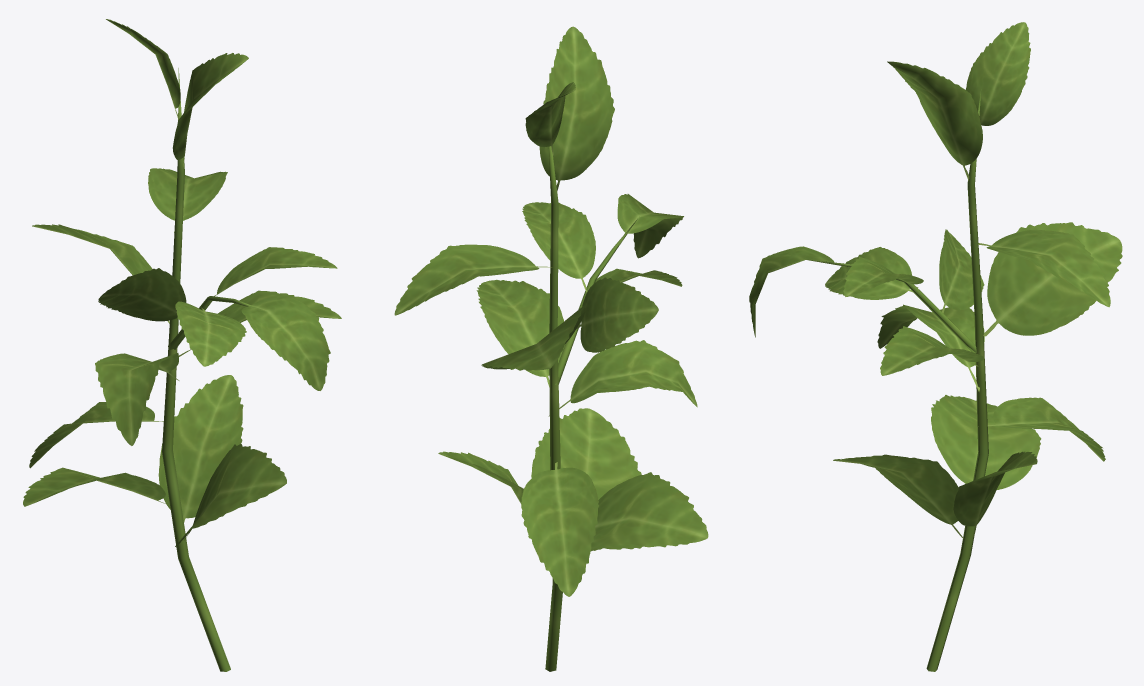
Rendered from herbs_garum.fbx.
3 views of the same model, side by side, from view 1: azimuth 30°, elevation 25°; view 2: azimuth 150°, elevation 25°; view 3: azimuth 270°, elevation 25° (orthographic). The views are drawn at different scales.
Visible parts, largest first — view 1: Standalone Herb; view 2: Standalone Herb; view 3: Standalone Herb.
Boxes of the visible parts, x1=… form: Standalone Herb: x1=23, y1=19, x2=341, y2=671; Standalone Herb: x1=394, y1=26, x2=708, y2=671; Standalone Herb: x1=749, y1=22, x2=1122, y2=671.
Size of the model in its own units: 34.32 by 72.06 by 40.26.
1 material, 1 textured.
